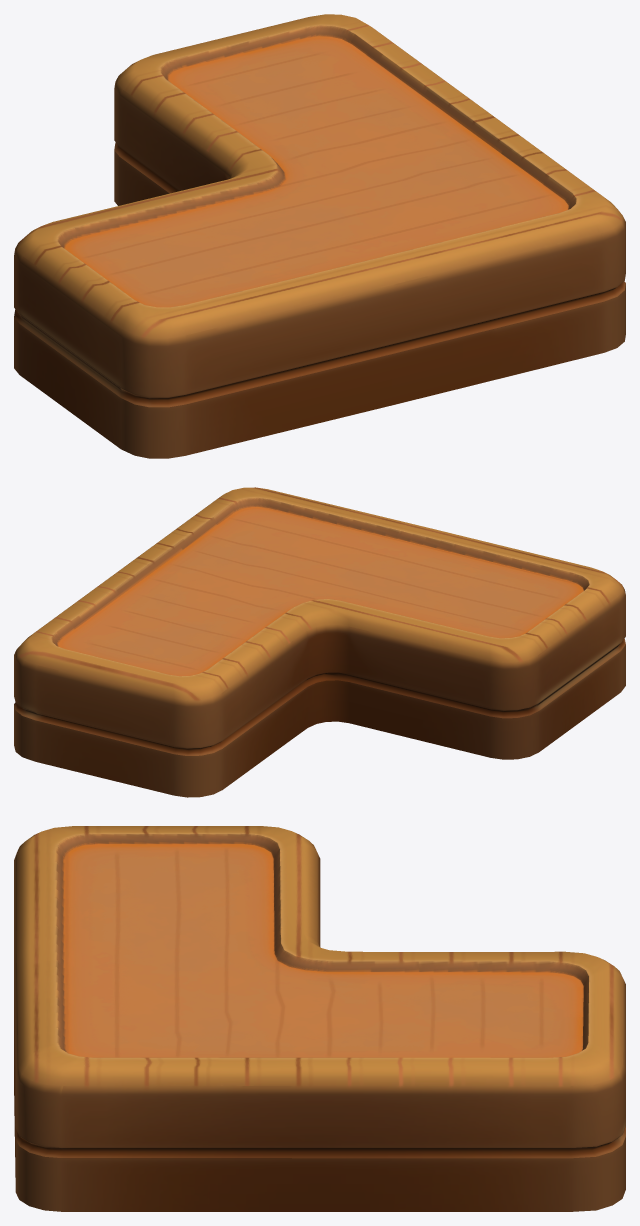
Rendered from model_TraySpec_L.fbx.
3 views of the same model, one above another, from view 1: azimuth 30°, elevation 25°; view 2: azimuth 150°, elevation 25°; view 3: azimuth 270°, elevation 25° (orthographic). The views are drawn at different scales.
Visible parts, largest first — view 1: model_TraySpec_L; view 2: model_TraySpec_L; view 3: model_TraySpec_L.
Part boxes in pixels (x1,y1,x2,y2): model_TraySpec_L: (14, 14, 625, 458); model_TraySpec_L: (14, 487, 625, 797); model_TraySpec_L: (14, 826, 625, 1211).
Bounding box in the file's own units: 197 × 49.5 × 200.
